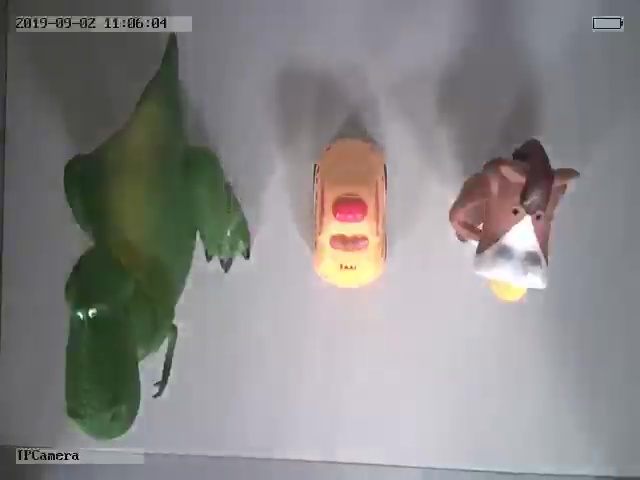car: (311, 134, 390, 287)
horse: (450, 138, 581, 304)
rex: (61, 56, 253, 442)
